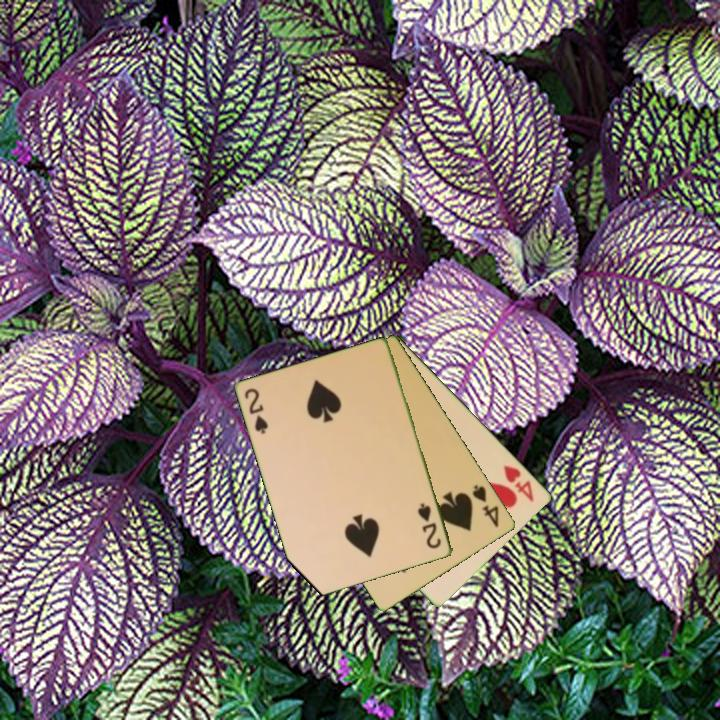2s: (414, 500, 444, 552), (241, 385, 271, 437)
4h: (500, 462, 537, 505)
4s: (469, 481, 502, 531)
